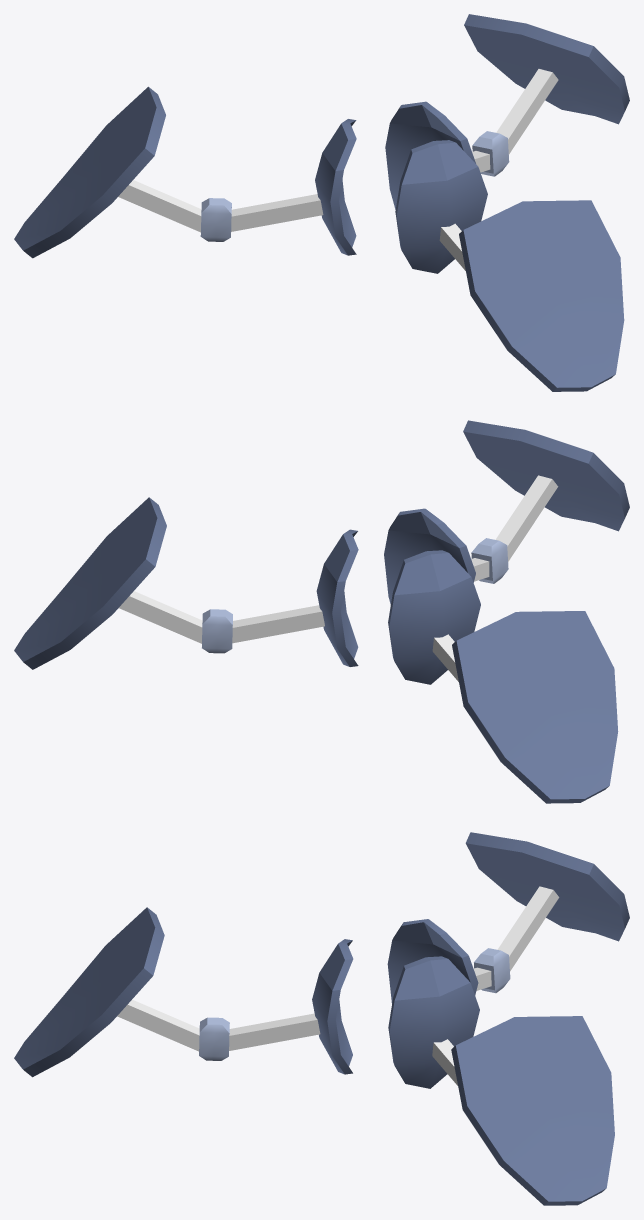
The model's file is tower_arms.obj.
3 renders of one model, top to bottom at view 1: azimuth 30°, elevation 25°; view 2: azimuth 150°, elevation 25°; view 3: azimuth 270°, elevation 25°, orthographic.
Parts seen in each view (by area): view 1: reflectors; view 2: reflectors; view 3: reflectors.
Part boxes in pixels (x1,y1,x2,y2): reflectors: (14,14,629,391); reflectors: (14,420,629,803); reflectors: (14,832,629,1205).
Bounding box in the file's own units: 53.34 × 12.24 × 48.59.
